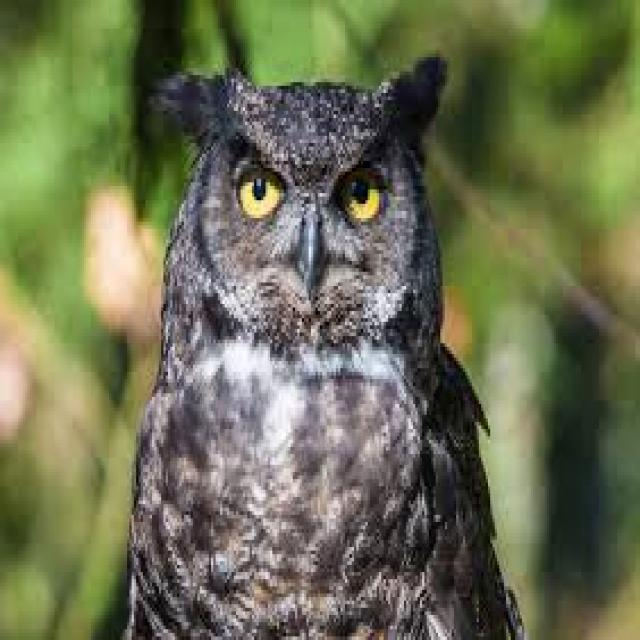owl: (127, 57, 522, 636)
